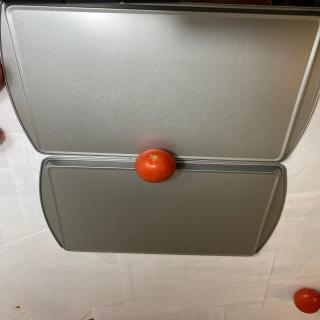Tomato: (134, 149, 176, 183), (293, 288, 320, 314)
